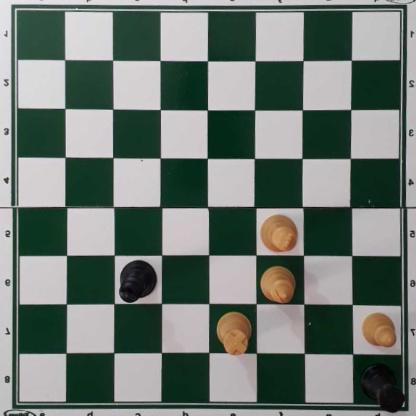black-king: (116, 260, 157, 304)
black-rook: (358, 363, 405, 415)
white-bishop: (261, 266, 294, 305)
white-king: (258, 215, 298, 254)
white-pawn: (361, 313, 397, 350)
white-rook: (216, 313, 253, 355)
